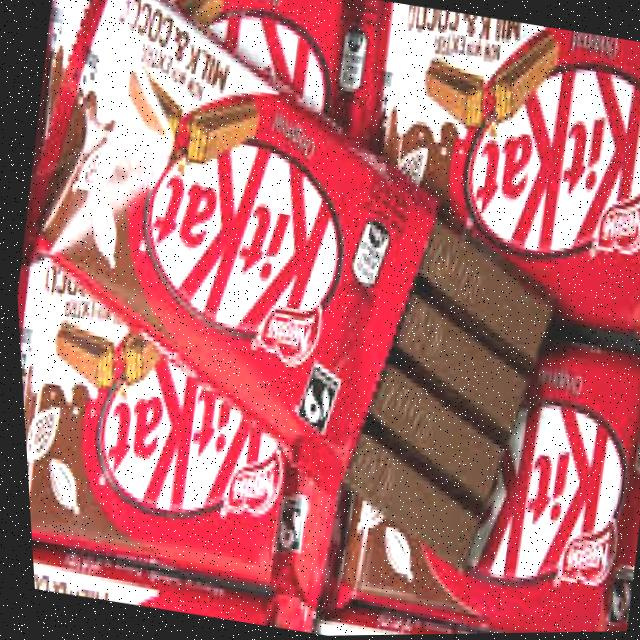kitkat: (0, 0, 483, 535), (12, 249, 371, 607), (310, 293, 640, 637), (331, 0, 640, 351)
